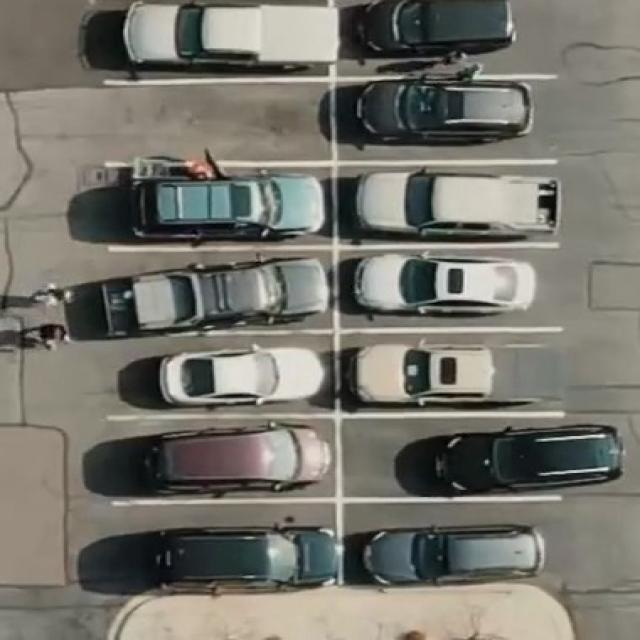space-empty: (99, 75, 332, 169)
space-occupied: (338, 414, 614, 502), (91, 497, 338, 593), (92, 244, 336, 338), (94, 415, 337, 503), (101, 158, 337, 246), (337, 326, 572, 414), (335, 158, 566, 246), (335, 240, 561, 328), (333, 71, 552, 161), (91, 2, 337, 82), (340, 500, 556, 586), (108, 331, 335, 412), (335, 0, 537, 72)
